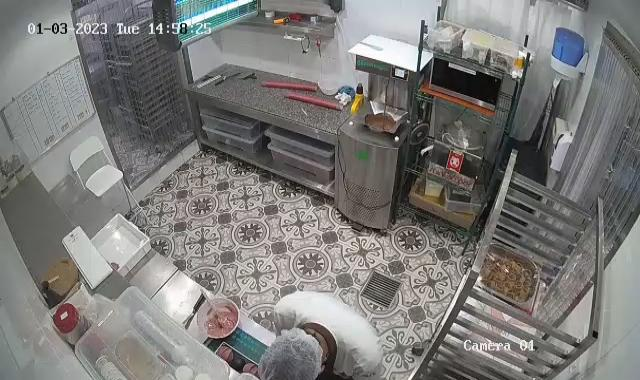hairnet: (256, 326, 324, 380)
